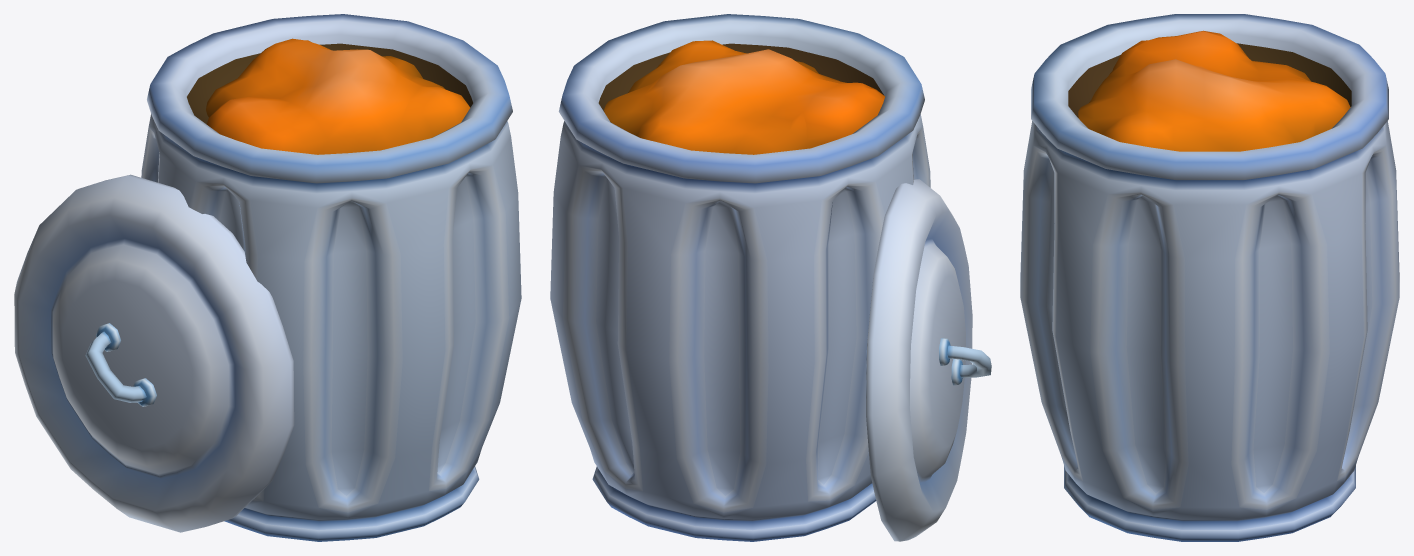
File: Trashcan_M.fbx
3 renders of one model, left to right at view 1: azimuth 30°, elevation 25°; view 2: azimuth 150°, elevation 25°; view 3: azimuth 270°, elevation 25°, orthographic.
Parts seen in each view (by area): view 1: Cube.065; view 2: Cube.065; view 3: Cube.065.
Boxes of the visible parts, box(x1,y1,x2,y2) form: Cube.065: box(14, 14, 521, 541); Cube.065: box(550, 14, 991, 541); Cube.065: box(1020, 14, 1399, 541).
Size of the model in its own units: 177 by 174 by 142.
